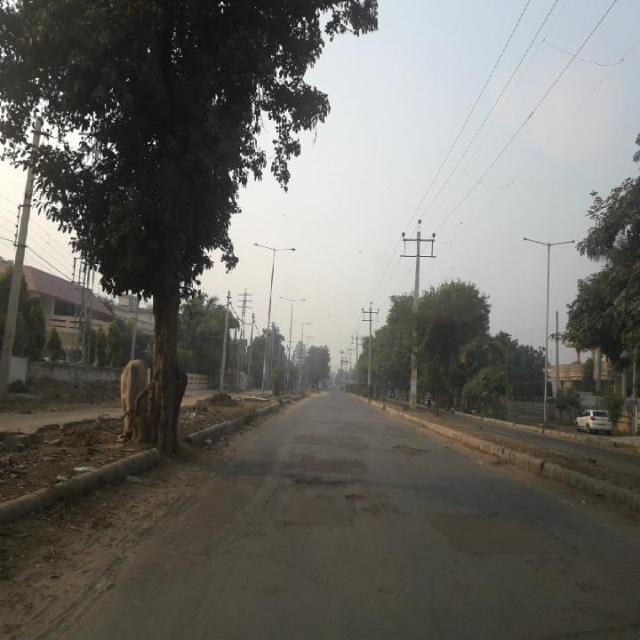D40: (278, 467, 393, 525), (388, 434, 442, 464)
